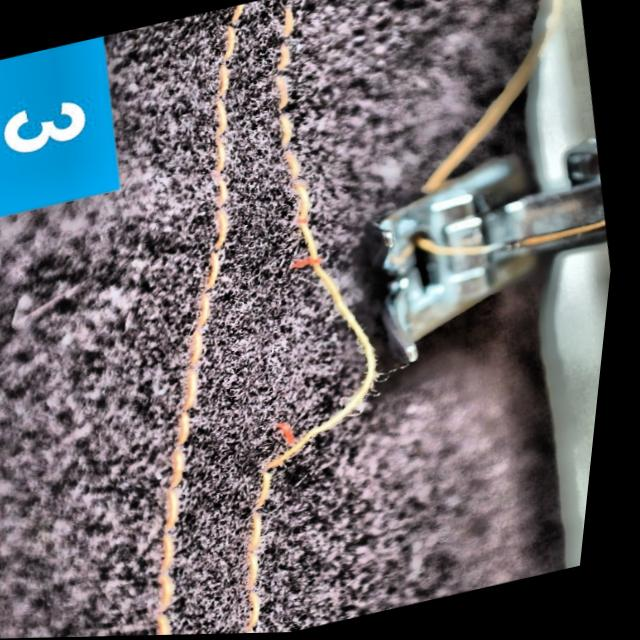Stitch: (193, 174, 455, 536)
